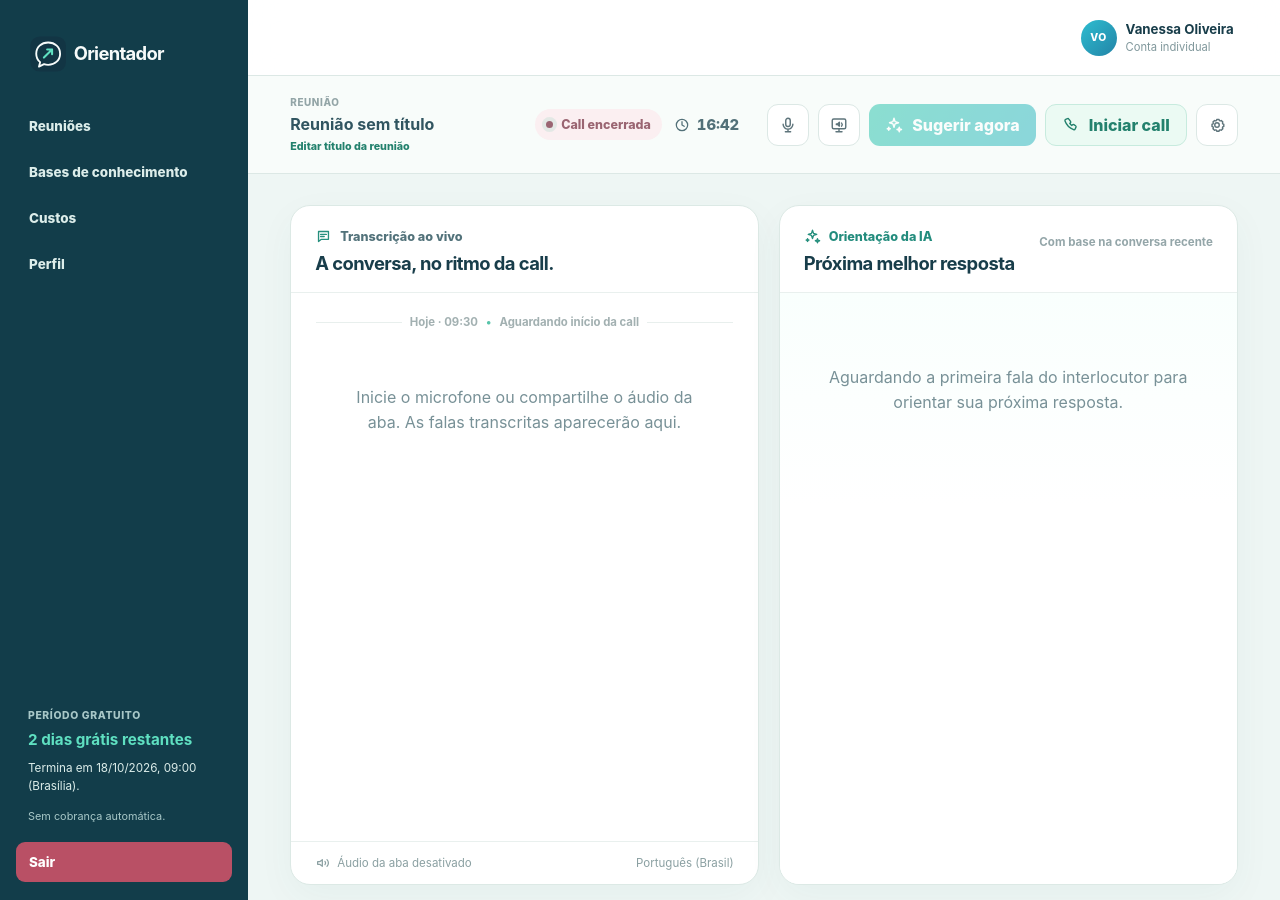
tela principal de call › exibe a mensagem segura da API quando um bloco é rejeitado
The width and height of the screenshot is (1280, 900).
Check: the heading "A conversa, no ritmo da call." is shown, box [315,252,554,274]
Click the button named "Escutar microfone" at (788, 125), box [767,104,809,146]
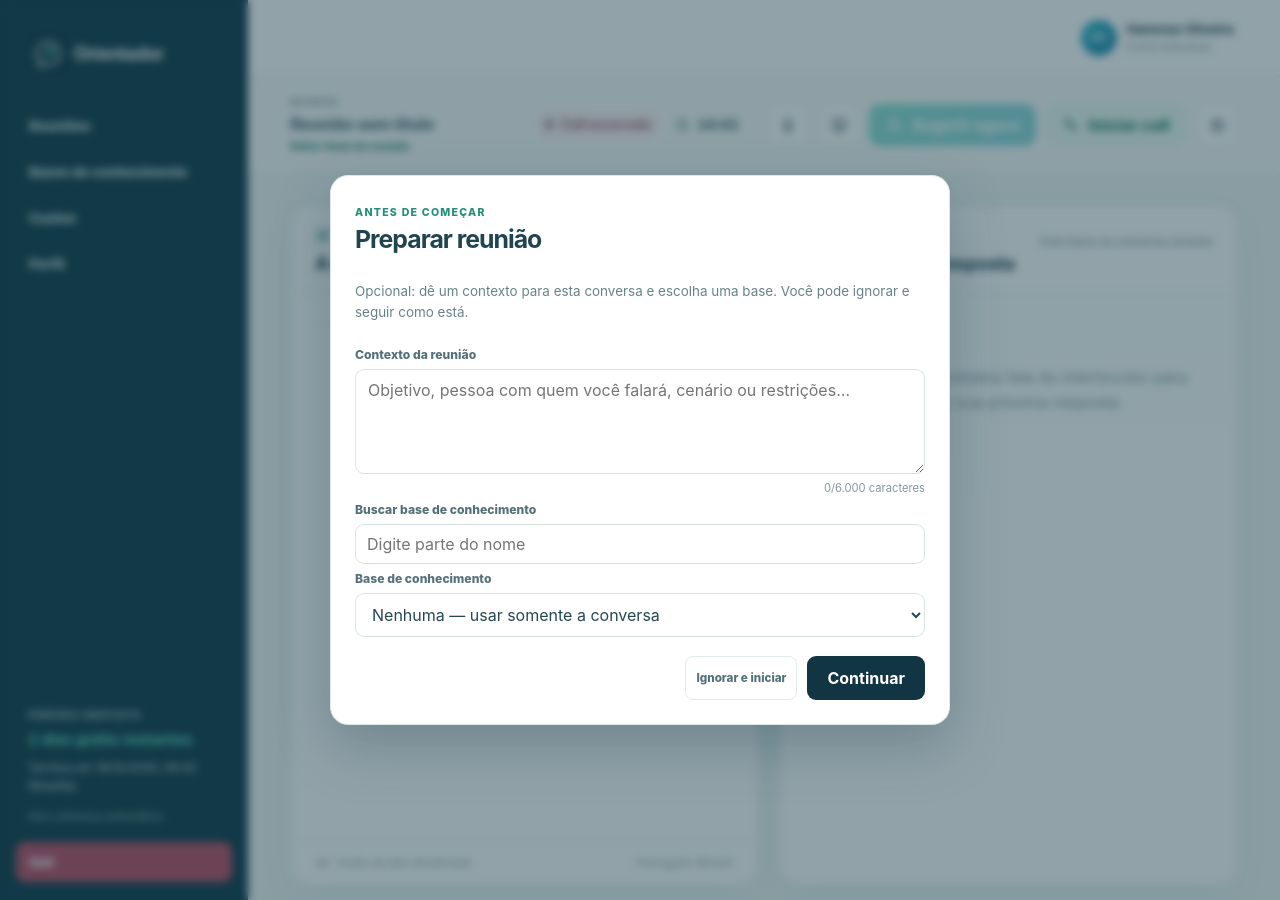
Click the button "Ignorar e iniciar" at (741, 678), box [685,656,797,700]
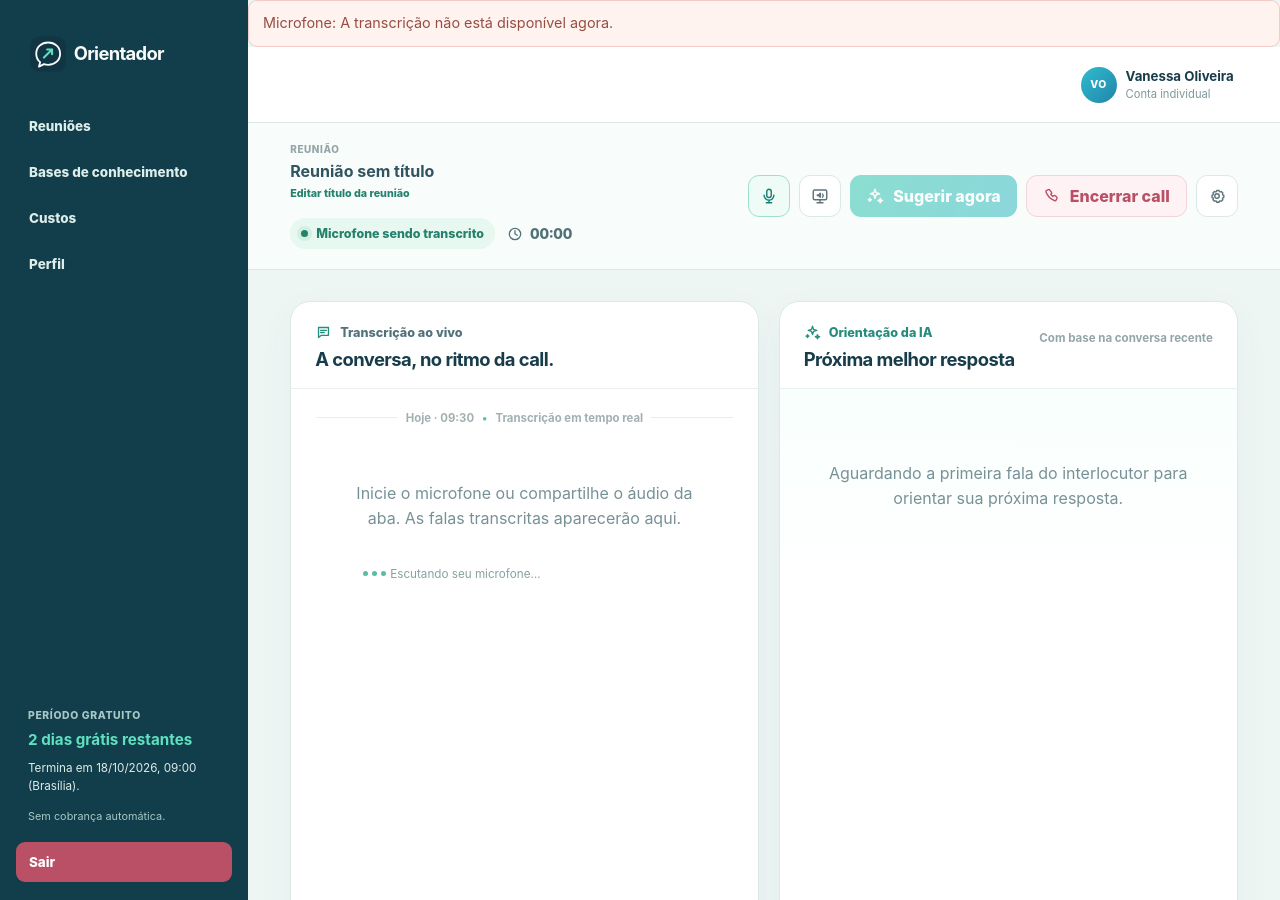
Check: the message "Microfone: A transcrição não está disponível agora." is shown, box [248,0,1279,47]
